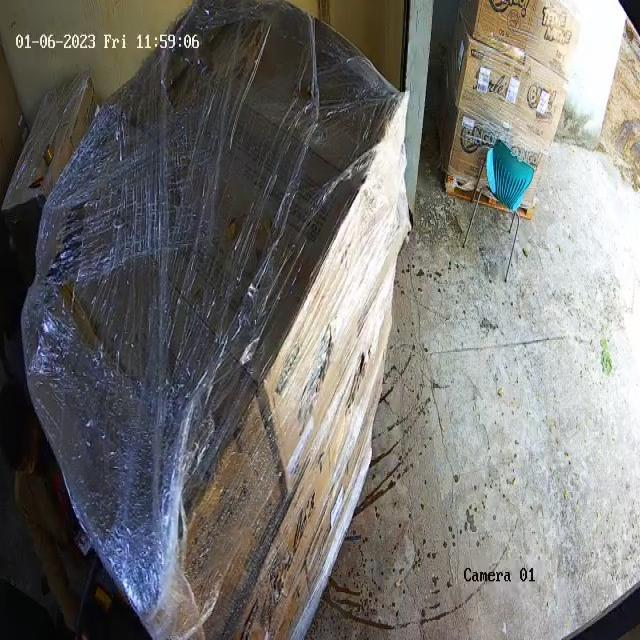leakage: (317, 333, 332, 392), (362, 354, 364, 362)
squeeze: (384, 95, 409, 222)
